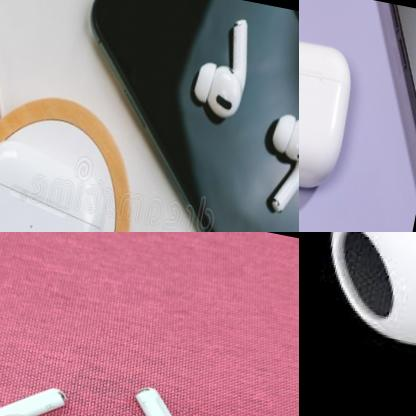Airpods: (299, 232, 416, 416), (89, 347, 231, 416), (189, 11, 254, 125), (0, 352, 84, 416), (256, 107, 299, 230)
